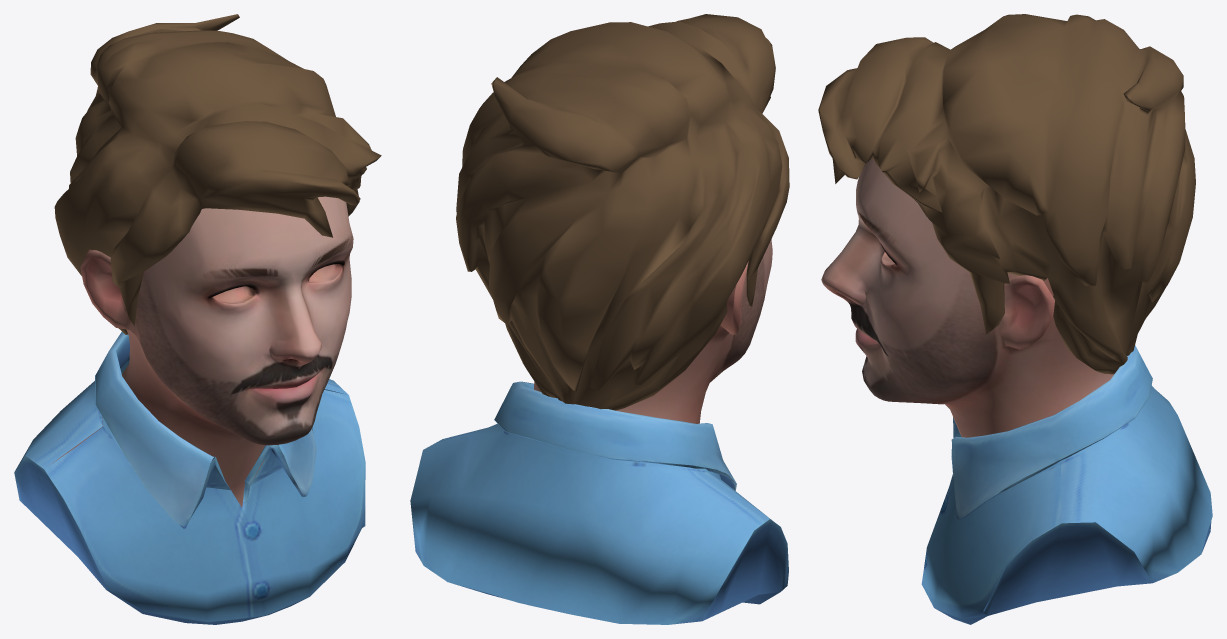
File: alex_face.glb
The picture shows the model from 3 angles, left to right: view 1: azimuth 30°, elevation 25°; view 2: azimuth 150°, elevation 25°; view 3: azimuth 270°, elevation 25°; orthographic projection. The views are drawn at different scales.
Parts seen in each view (by area): view 1: Face; view 2: Face; view 3: Face.
Part boxes in pixels (box(x1,y1,x2,y2)): Face: box(14, 14, 381, 624); Face: box(410, 14, 789, 624); Face: box(818, 14, 1212, 624).
Bounding box in the file's own units: 0.2312 × 0.3867 × 0.2494.
Materials: 3 (3 with a texture image).
